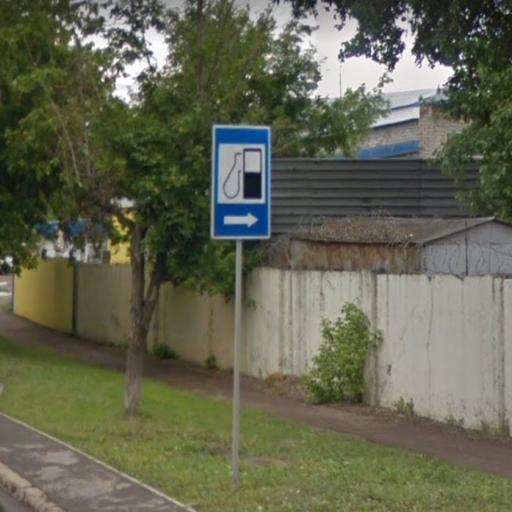traffic_sign: (208, 118, 277, 247)
